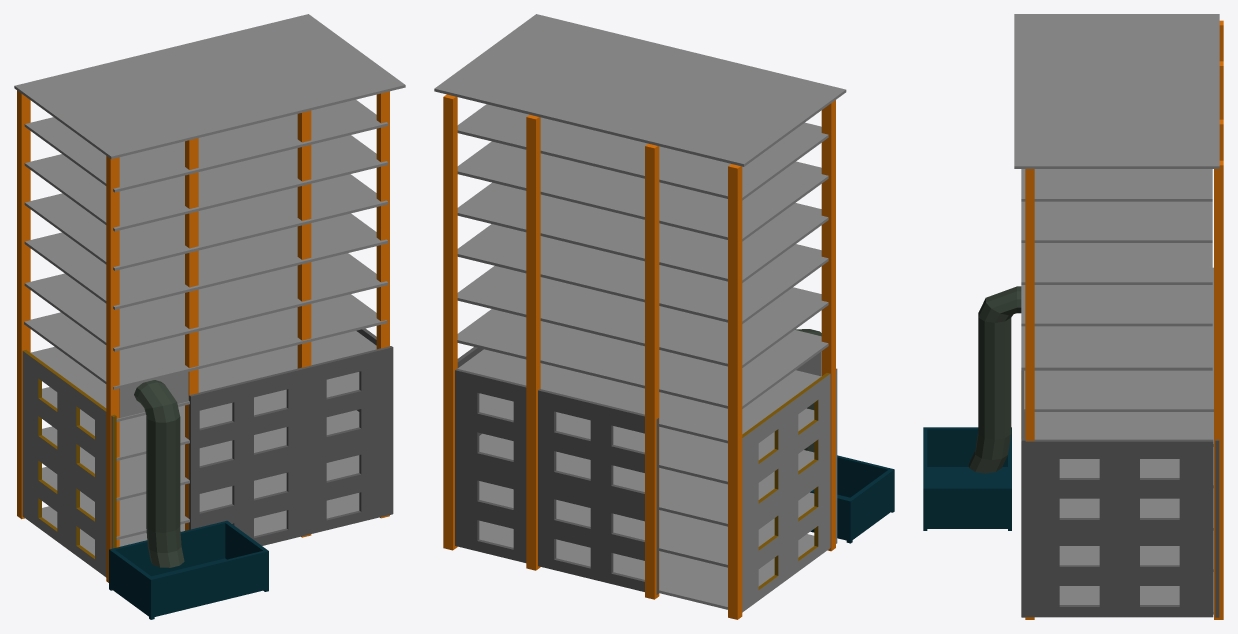
Rendered from BigConstruction.fbx.
3 views of the same model, side by side, from view 1: azimuth 30°, elevation 25°; view 2: azimuth 150°, elevation 25°; view 3: azimuth 270°, elevation 25° (orthographic). The views are drawn at different scales.
Visible parts, largest first — view 1: BetaLevelProps3:BetaLevelProps3:pCube169; view 2: BetaLevelProps3:BetaLevelProps3:pCube169; view 3: BetaLevelProps3:BetaLevelProps3:pCube169.
Boxes of the visible parts, <box> form: BetaLevelProps3:BetaLevelProps3:pCube169: <box>14,14,405,619</box>; BetaLevelProps3:BetaLevelProps3:pCube169: <box>434,14,894,619</box>; BetaLevelProps3:BetaLevelProps3:pCube169: <box>923,14,1223,619</box>.
Size of the model in its own units: 74.15 by 103 by 61.06.
